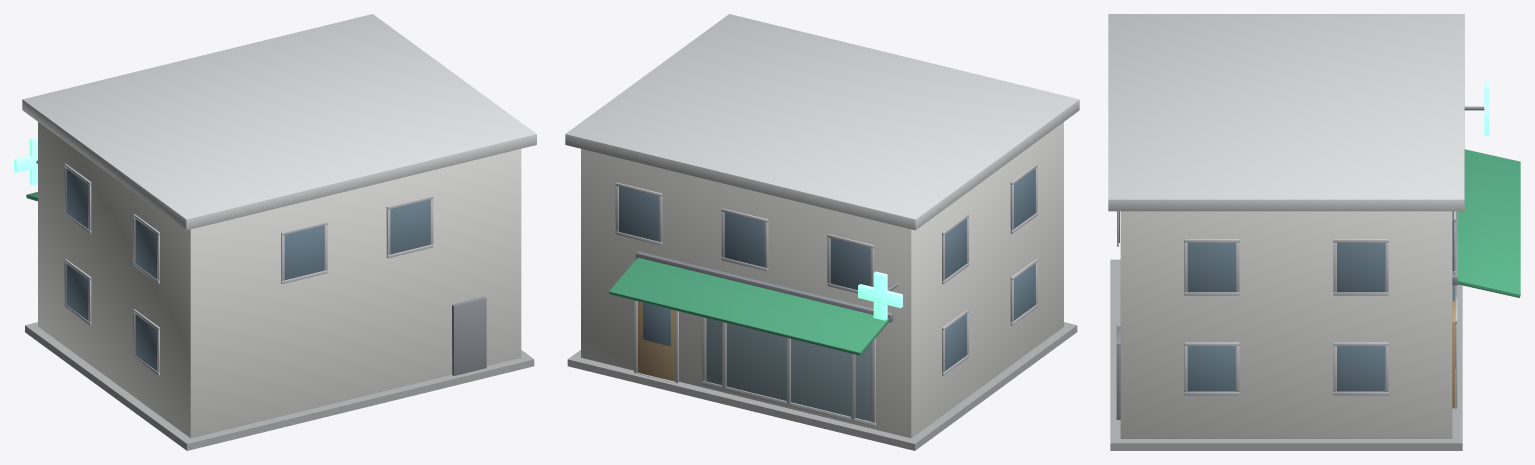
The model's file is th49_apotheke.glb.
The picture shows the model from 3 angles, left to right: view 1: azimuth 30°, elevation 25°; view 2: azimuth 150°, elevation 25°; view 3: azimuth 270°, elevation 25°; orthographic projection. The views are drawn at different scales.
Parts seen in each view (by area): view 1: Cube.001, Cube.002, Cube, Cube.088, Cube.078, Cube.083, Cube.048, Cube.038, Cube.053, Cube.043; view 2: Cube.002, Cube.001, Cube.017, Cube.003, Cube, Cube.028, Cube.033, Cube.023, Cube.011, Cube.018, Cube.012, Cube.048 (+6 smaller); view 3: Cube.002, Cube.001, Cube.017, Cube, Cube.058, Cube.068, Cube.063, Cube.073, Cube.088.
Boxes of the visible parts, bbox=[...] form: Cube.001: bbox=[38, 122, 521, 438]; Cube.002: bbox=[22, 14, 536, 230]; Cube: bbox=[25, 322, 534, 450]; Cube.088: bbox=[452, 297, 486, 375]; Cube.078: bbox=[284, 225, 324, 280]; Cube.083: bbox=[390, 200, 430, 254]; Cube.048: bbox=[66, 168, 88, 228]; Cube.038: bbox=[135, 219, 156, 279]; Cube.053: bbox=[66, 264, 88, 320]; Cube.043: bbox=[135, 314, 156, 370]; Cube.002: bbox=[565, 14, 1079, 230]; Cube.001: bbox=[581, 122, 1063, 438]; Cube.017: bbox=[609, 257, 888, 355]; Cube.003: bbox=[706, 318, 871, 421]; Cube: bbox=[567, 322, 1077, 450]; Cube.028: bbox=[724, 212, 764, 267]; Cube.033: bbox=[619, 187, 658, 241]; Cube.023: bbox=[830, 238, 870, 290]; Cube.011: bbox=[637, 301, 675, 381]; Cube.018: bbox=[636, 251, 893, 322]; Cube.012: bbox=[643, 302, 671, 346]; Cube.048: bbox=[945, 219, 966, 279]; Cube.002: bbox=[1108, 14, 1464, 211]; Cube.001: bbox=[1120, 211, 1452, 438]; Cube.017: bbox=[1458, 149, 1520, 297]; Cube: bbox=[1110, 259, 1462, 450]; Cube.058: bbox=[1187, 243, 1235, 292]; Cube.068: bbox=[1337, 243, 1384, 292]; Cube.063: bbox=[1187, 346, 1235, 391]; Cube.073: bbox=[1337, 346, 1384, 391]; Cube.088: bbox=[1116, 326, 1120, 419].
Size of the model in its own units: 10.6 by 6.72 by 9.96.
